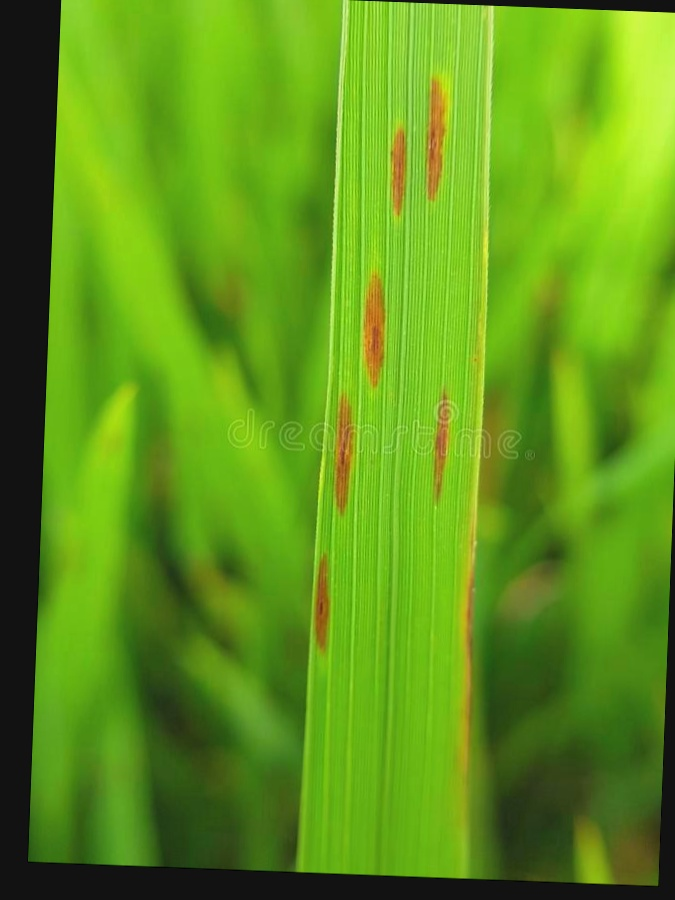Bacterial_Leaf_Blight: (308, 384, 377, 514), (409, 60, 456, 205), (290, 546, 348, 655), (420, 381, 461, 516), (350, 265, 395, 386), (382, 125, 409, 224)
